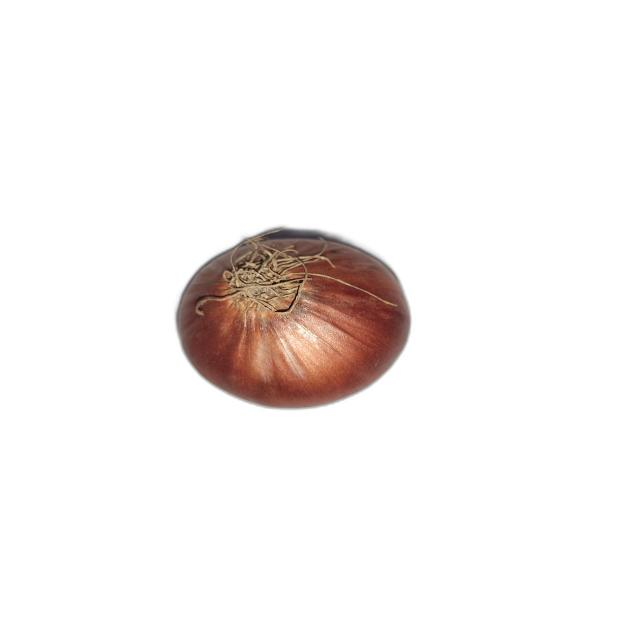onion: (174, 228, 414, 411)
